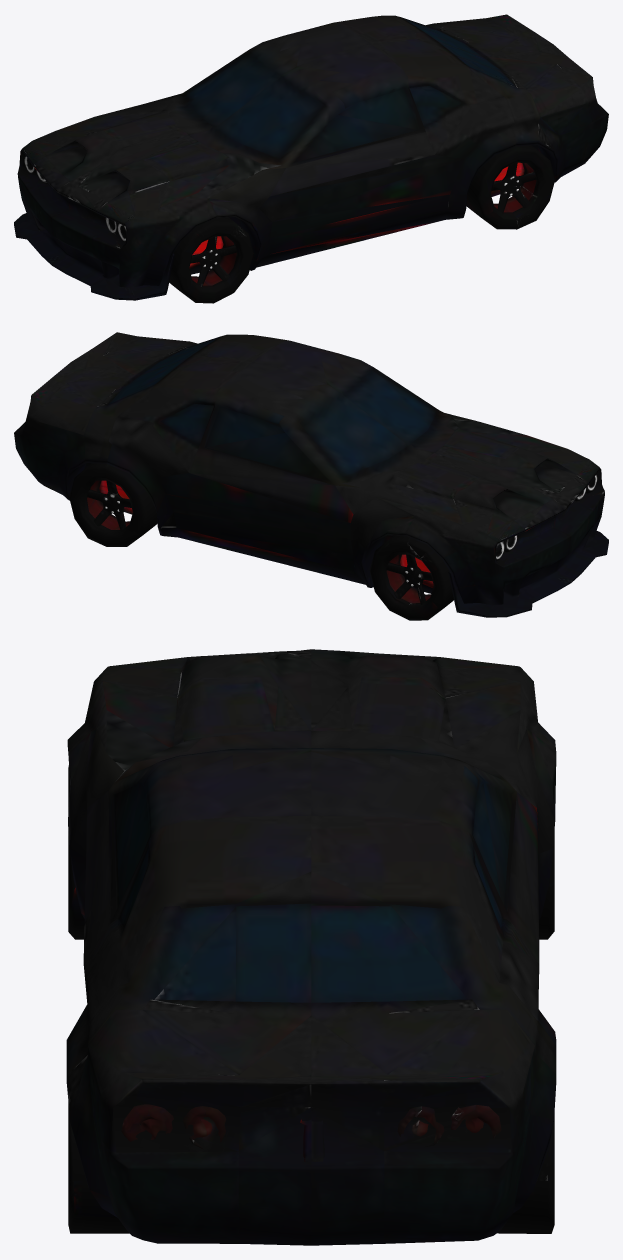
File: 56-getaway-sports-car.glb
3 views of the same model, one above another, from view 1: azimuth 30°, elevation 25°; view 2: azimuth 150°, elevation 25°; view 3: azimuth 270°, elevation 25° (orthographic). The views are drawn at different scales.
Parts seen in each view (by area): view 1: geometry_0; view 2: geometry_0; view 3: geometry_0.
Part boxes in pixels (box(x1,y1,x2,y2)): geometry_0: box(14, 14, 608, 303); geometry_0: box(14, 332, 608, 620); geometry_0: box(66, 649, 556, 1245).
Size of the model in its own units: 0.9551 by 0.2886 by 0.3931.
Materials: 1 (1 with a texture image).
